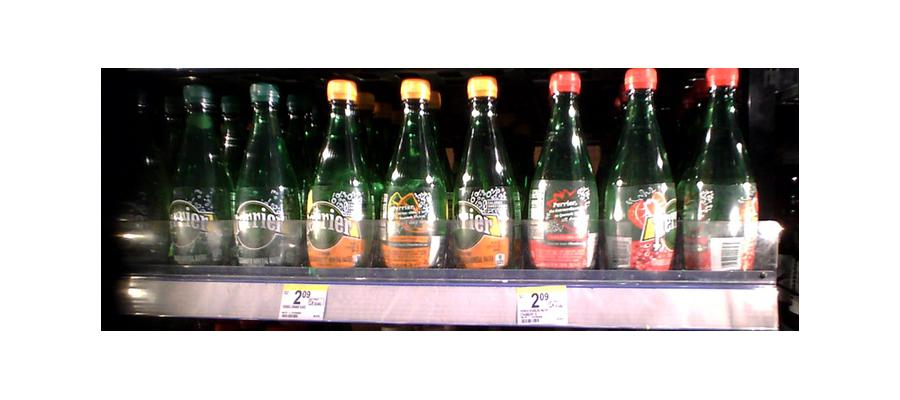bottle: (683, 64, 759, 278), (605, 64, 680, 279), (530, 72, 598, 279), (379, 79, 447, 279), (233, 79, 302, 273), (452, 76, 518, 277), (305, 79, 371, 279), (169, 79, 227, 265)
